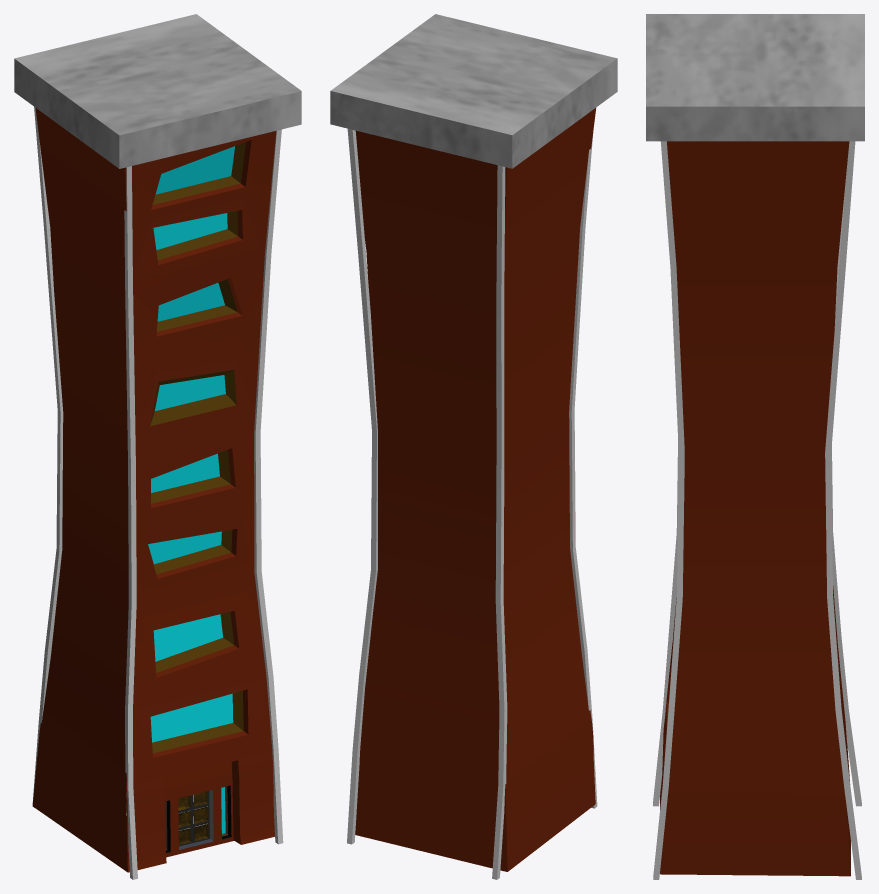
Rendered from PredioAltoFino-VermelhoEscuroLOD0.fbx.
3 renders of one model, left to right at view 1: azimuth 30°, elevation 25°; view 2: azimuth 150°, elevation 25°; view 3: azimuth 270°, elevation 25°, orthographic. The views are drawn at different scales.
Visible parts, largest first — view 1: PredioAltoFinoLOD0; view 2: PredioAltoFinoLOD0; view 3: PredioAltoFinoLOD0.
Part boxes in pixels (x1,y1,x2,y2): PredioAltoFinoLOD0: (14,14,301,879); PredioAltoFinoLOD0: (330,14,617,879); PredioAltoFinoLOD0: (646,14,864,879).
Bounding box in the file's own units: 635 × 2498 × 635.
